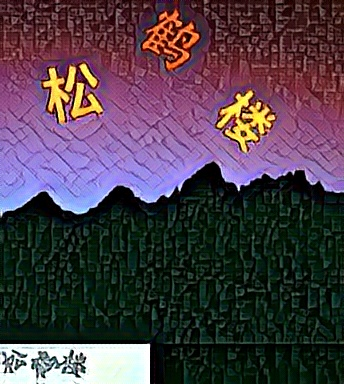BAD7: (138, 6, 203, 72)
C2A5: (210, 85, 275, 151)
CBC9: (39, 61, 104, 127)
